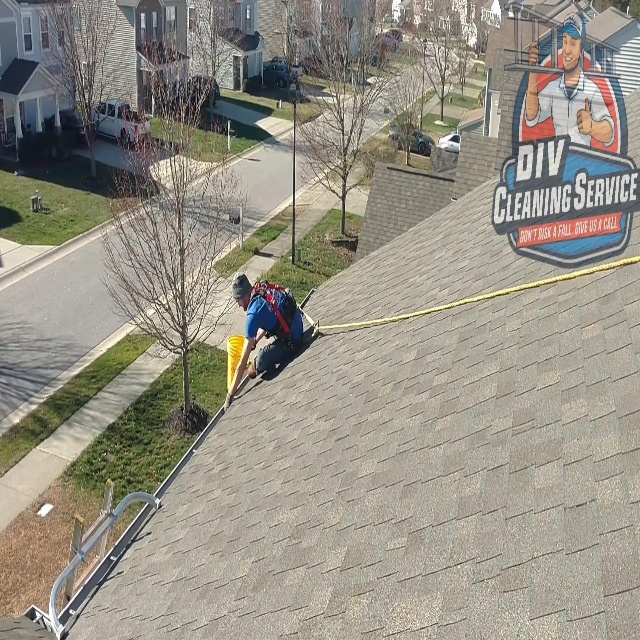Arnes_seguridad: (245, 277, 309, 353)
